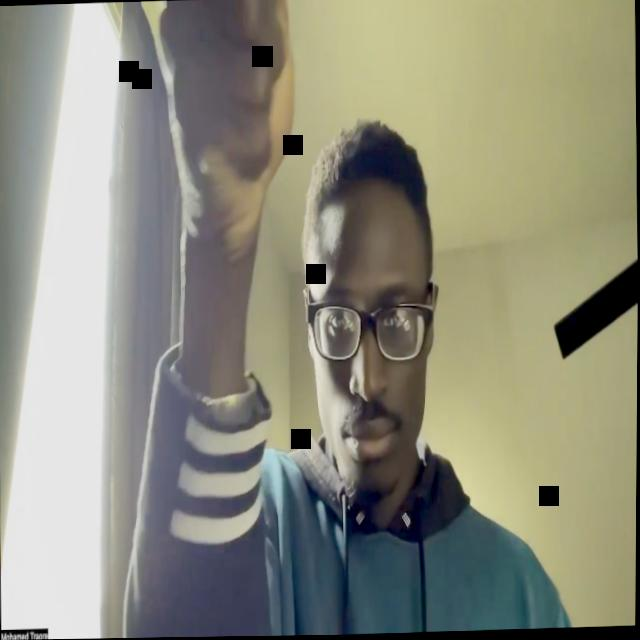Rock: (151, 0, 302, 266)
